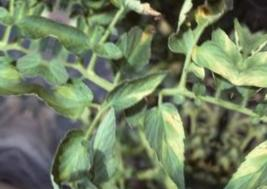Tomato mold leaf: (124, 94, 211, 189), (102, 51, 174, 122), (105, 9, 162, 81), (43, 120, 102, 189), (33, 69, 100, 124), (190, 37, 246, 87)
